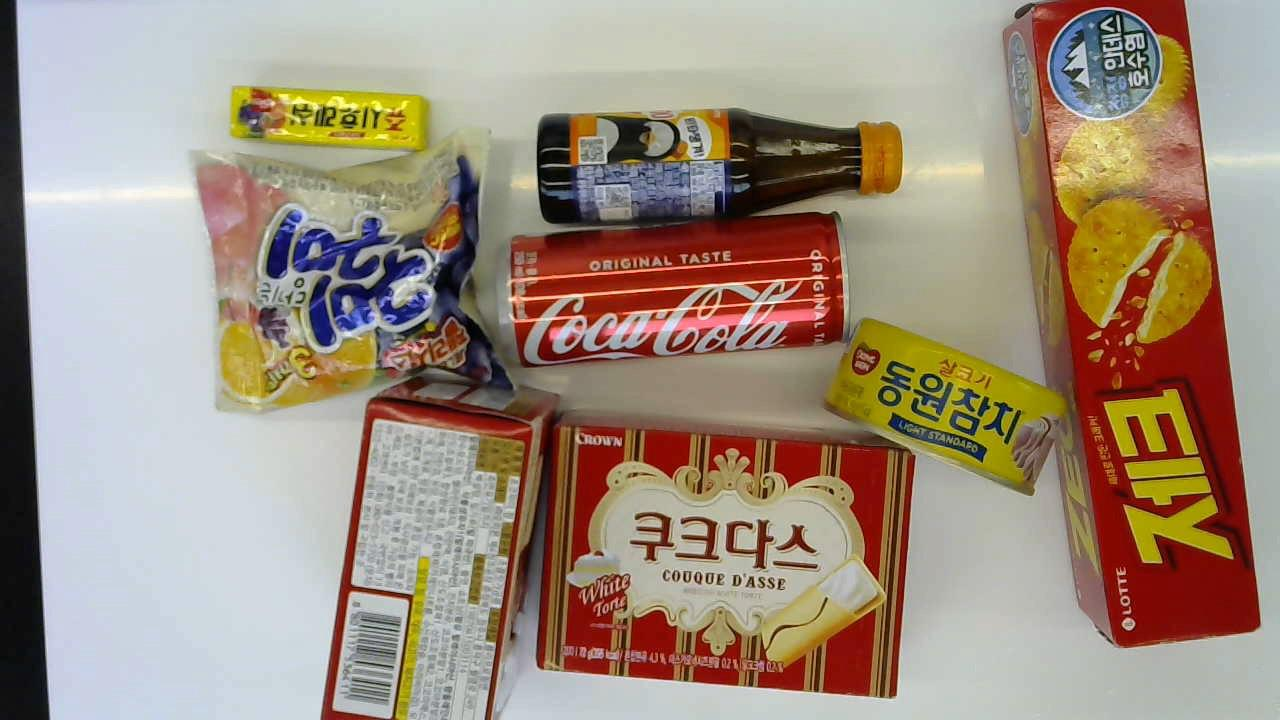chocopie: (313, 376, 561, 715)
coke: (511, 210, 854, 366)
couque_white: (543, 407, 917, 699)
gumi_gumi: (191, 127, 522, 412)
juicyfresh: (231, 76, 430, 152)
tuna: (826, 317, 1060, 493)
vita500: (533, 110, 899, 216)
zec: (997, 2, 1261, 649)
